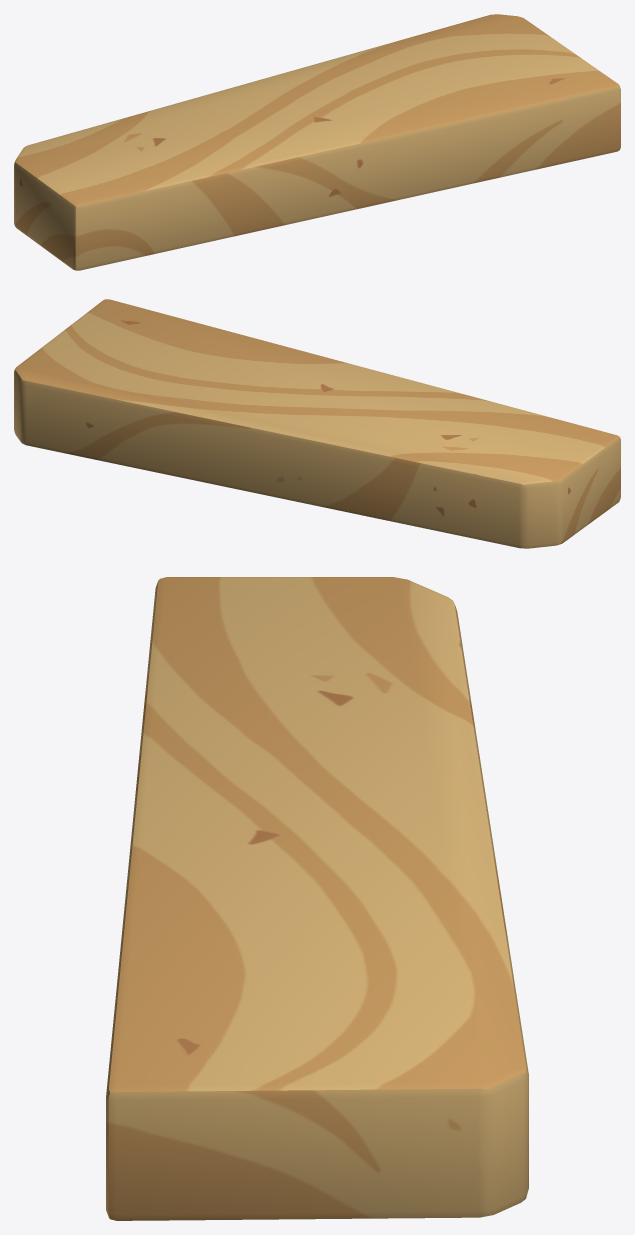
Rendered from Prop_WoodBridge3.fbx.
3 views of the same model, one above another, from view 1: azimuth 30°, elevation 25°; view 2: azimuth 150°, elevation 25°; view 3: azimuth 270°, elevation 25° (orthographic). The views are drawn at different scales.
Parts seen in each view (by area): view 1: WoodBridge3; view 2: WoodBridge3; view 3: WoodBridge3.
Part boxes in pixels (x1=…): WoodBridge3: x1=14, y1=14, x2=620, y2=270; WoodBridge3: x1=14, y1=299, x2=620, y2=548; WoodBridge3: x1=106, y1=577, x2=528, y2=1220.
Size of the model in its own units: 142 by 17.11 by 48.97.
